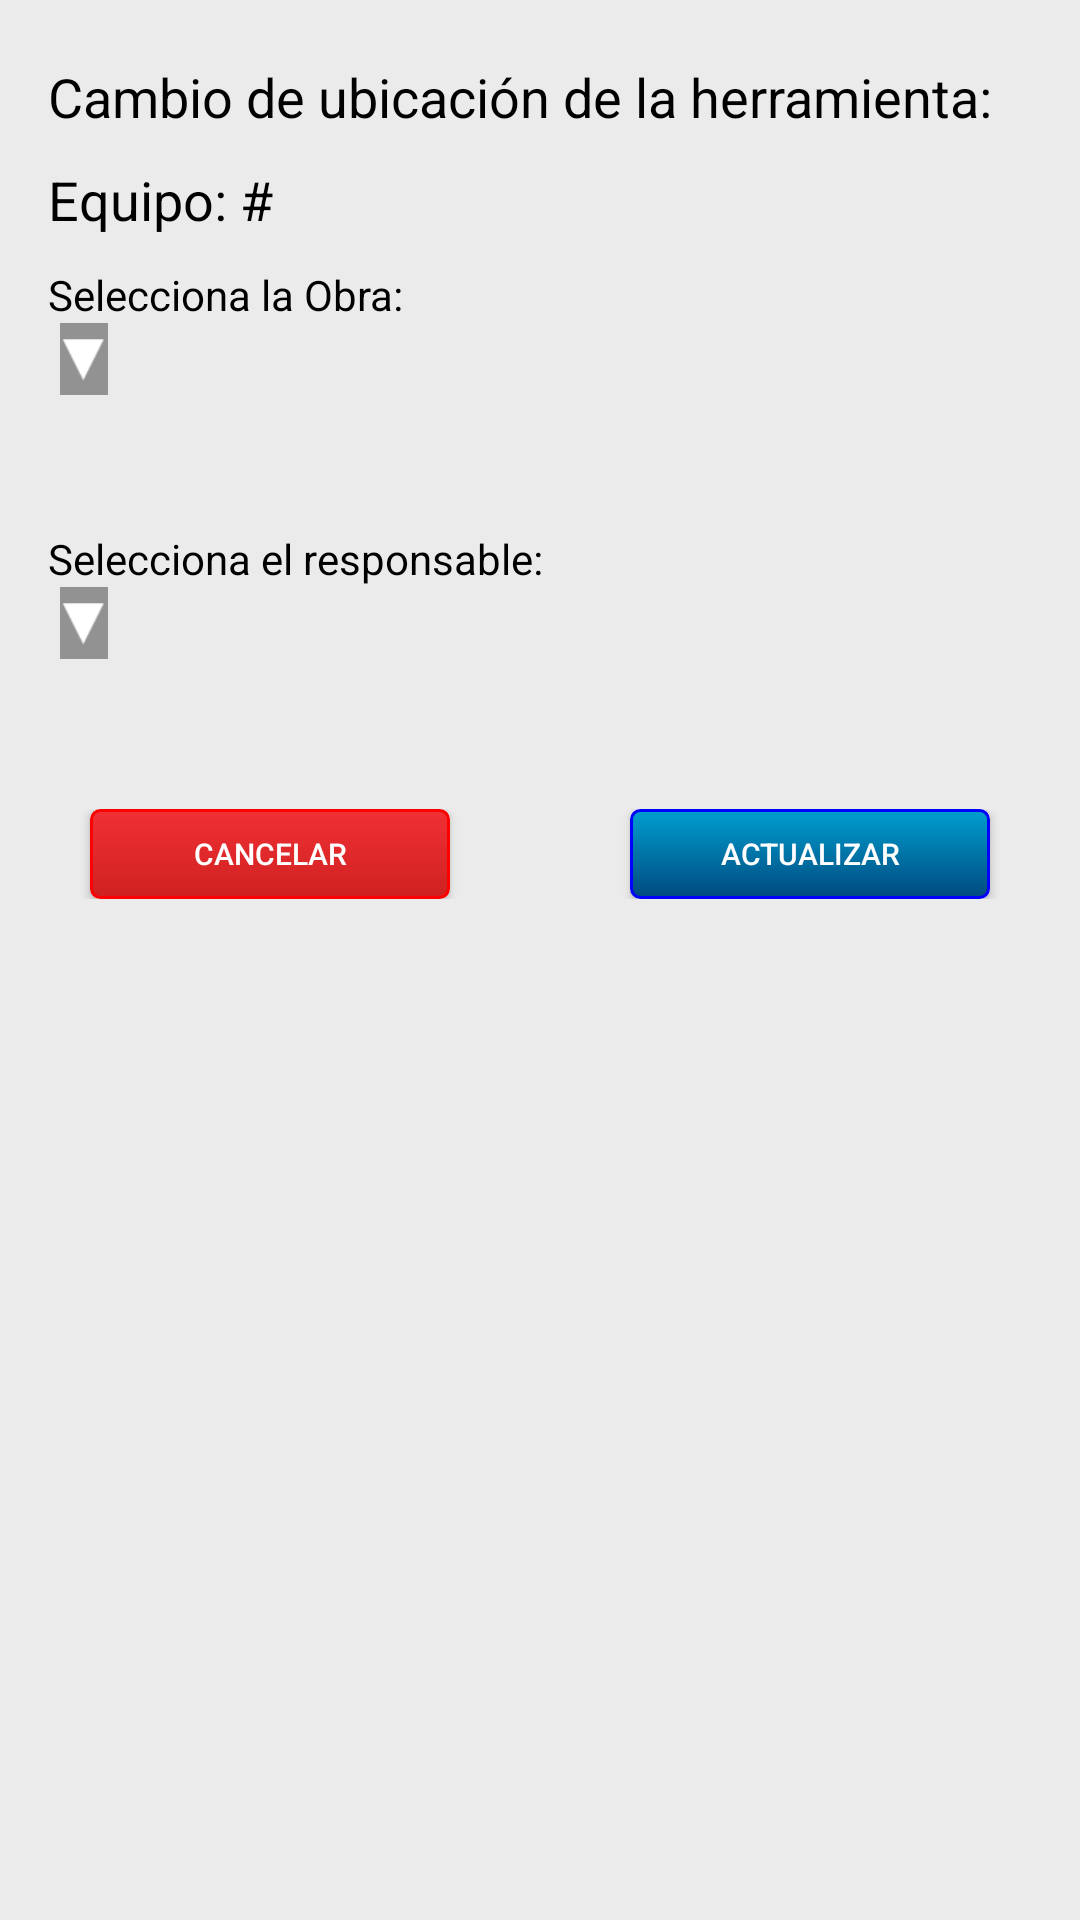

Icons on this 1080 × 1920 Android screen, each with its box as (x1, y1, x2, y2):
spinner dropdown: (60, 323, 108, 395), (60, 587, 108, 659)
